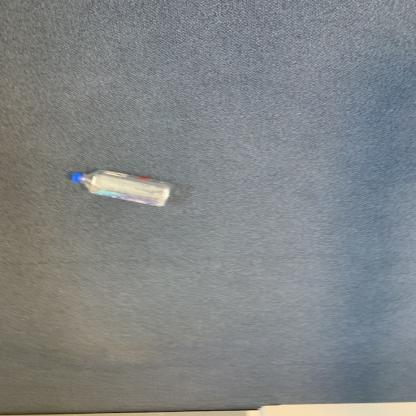trash: (70, 167, 178, 212)
